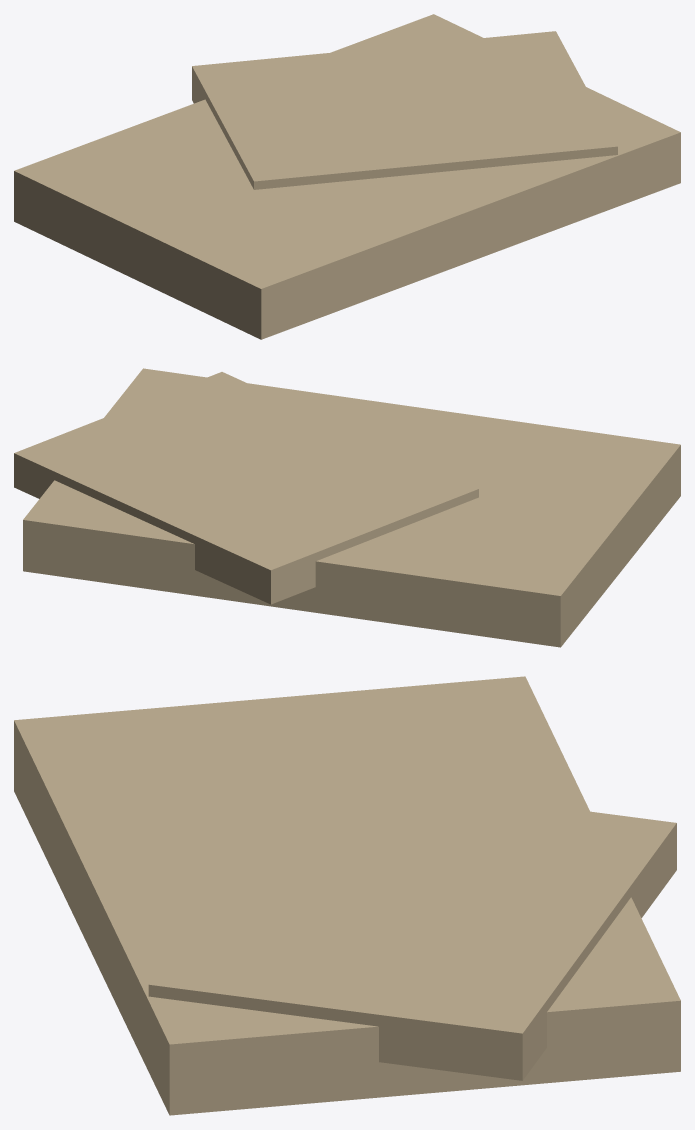
File: waterlogged_cardboard.glb
3 views of the same model, one above another, from view 1: azimuth 30°, elevation 25°; view 2: azimuth 150°, elevation 25°; view 3: azimuth 270°, elevation 25° (orthographic). The views are drawn at different scales.
Visible parts, largest first — view 1: card, card2; view 2: card, card2; view 3: card, card2.
Boxes of the visible parts, <box> form: card: <box>14,14,680,339</box>; card2: <box>192,31,617,189</box>; card: <box>23,368,680,647</box>; card2: <box>14,372,478,604</box>; card: <box>14,676,680,1115</box>; card2: <box>148,774,676,1080</box>.
Bounding box in the file's own units: 1.34 × 0.1401 × 1.02.
